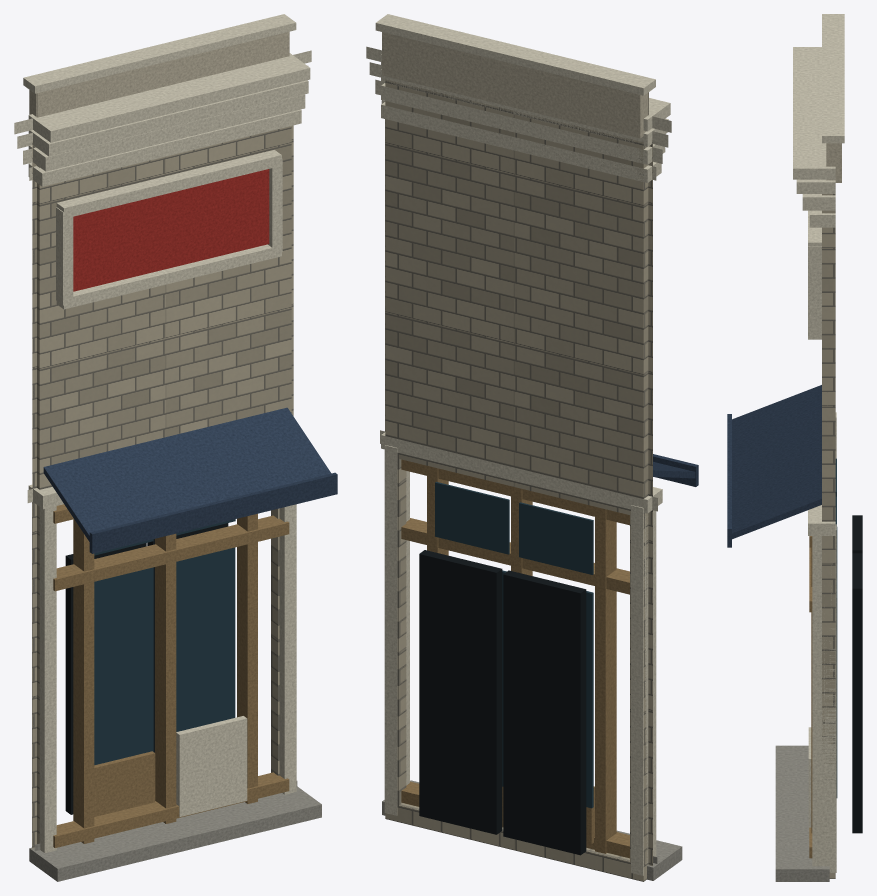
File: BUSS2_lod2.glb
The picture shows the model from 3 angles, left to right: view 1: azimuth 30°, elevation 25°; view 2: azimuth 150°, elevation 25°; view 3: azimuth 270°, elevation 25°; orthographic projection. The views are drawn at different scales.
Parts seen in each view (by area): view 1: BUSS2_FRONT_LOD2; view 2: BUSS2_FRONT_LOD2; view 3: BUSS2_FRONT_LOD2.
Part boxes in pixels (x1,y1,x2,y2): BUSS2_FRONT_LOD2: (14,14,337,881); BUSS2_FRONT_LOD2: (366,14,698,881); BUSS2_FRONT_LOD2: (727,14,862,881).
Size of the model in its own units: 3.78 by 9.44 by 1.56.
Materials: 10 (8 with a texture image).
